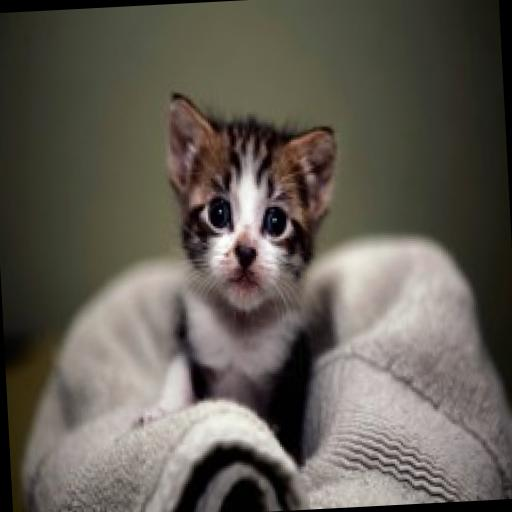cat: (142, 69, 391, 442)
